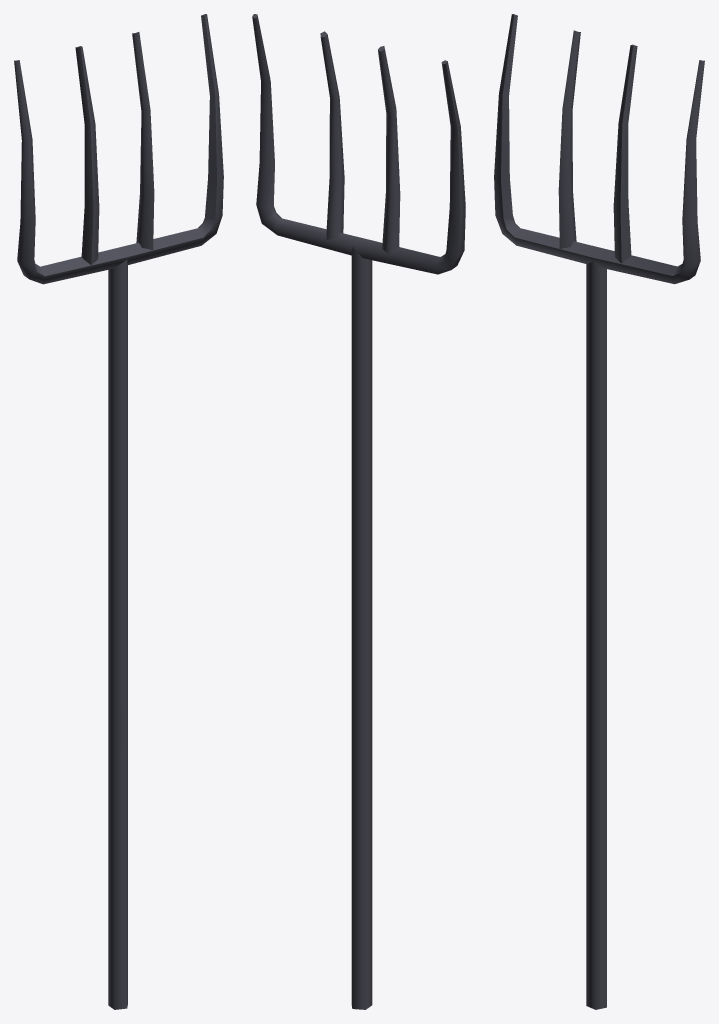
The model's file is Fork.fbx.
The picture shows the model from 3 angles, left to right: view 1: azimuth 30°, elevation 25°; view 2: azimuth 150°, elevation 25°; view 3: azimuth 330°, elevation 25°; orthographic projection.
Visible parts, largest first — view 1: Fork; view 2: Fork; view 3: Fork.
Boxes of the visible parts, box(x1,y1,x2,y2) form: Fork: box(14, 14, 223, 1009); Fork: box(252, 14, 465, 1009); Fork: box(494, 14, 704, 1009).
Bounding box in the file's own units: 13.55 × 62.17 × 2.09.
